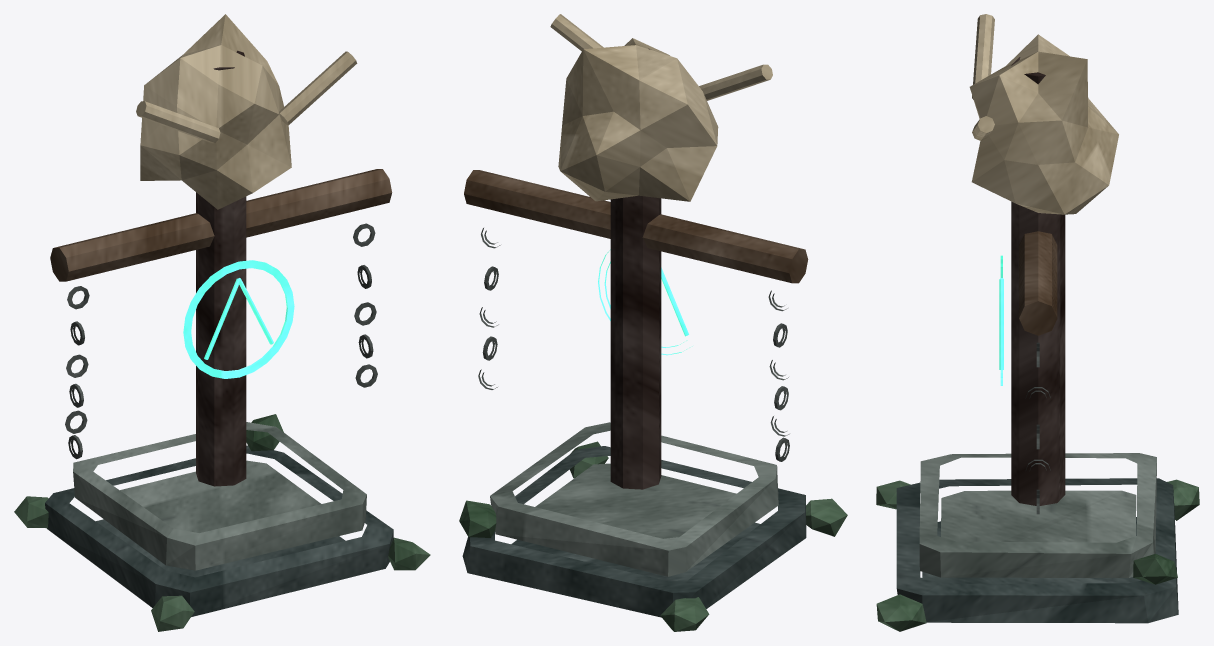
File: 0522_effigy_22.glb
3 renders of one model, left to right at view 1: azimuth 30°, elevation 25°; view 2: azimuth 150°, elevation 25°; view 3: azimuth 270°, elevation 25°, orthographic. The views are drawn at different scales.
Parts seen in each view (by area): view 1: bone, stone, stone_dark, wood_dark, wood, moss, glow, iron; view 2: bone, stone, stone_dark, wood_dark, wood, moss, iron, glow; view 3: stone, bone, stone_dark, wood_dark, moss, wood, glow, iron.
Part boxes in pixels (x1=…): bone: x1=136, y1=14, x2=357, y2=209; stone: x1=73, y1=422, x2=366, y2=570; stone_dark: x1=45, y1=445, x2=393, y2=616; wood_dark: x1=196, y1=50, x2=246, y2=486; wood: x1=50, y1=169, x2=392, y2=281; moss: x1=14, y1=414, x2=430, y2=631; glow: x1=183, y1=260, x2=294, y2=378; iron: x1=65, y1=223, x2=377, y2=459; bone: x1=550, y1=14, x2=772, y2=201; stone: x1=490, y1=422, x2=778, y2=576; stone_dark: x1=462, y1=446, x2=806, y2=617; wood_dark: x1=610, y1=48, x2=661, y2=489; wood: x1=464, y1=170, x2=808, y2=283; moss: x1=459, y1=441, x2=847, y2=631; iron: x1=478, y1=228, x2=789, y2=461; glow: x1=598, y1=249, x2=692, y2=355; stone: x1=919, y1=453, x2=1156, y2=577; bone: x1=969, y1=14, x2=1118, y2=214; stone_dark: x1=896, y1=478, x2=1178, y2=623; wood_dark: x1=1011, y1=57, x2=1065, y2=505; moss: x1=876, y1=479, x2=1199, y2=631; wood: x1=1019, y1=231, x2=1057, y2=335; glow: x1=999, y1=255, x2=1003, y2=385; iron: x1=1025, y1=342, x2=1050, y2=514.
Bounding box in the file's own units: 2 × 3.03 × 1.68.
Materials: 8 (8 with a texture image).
